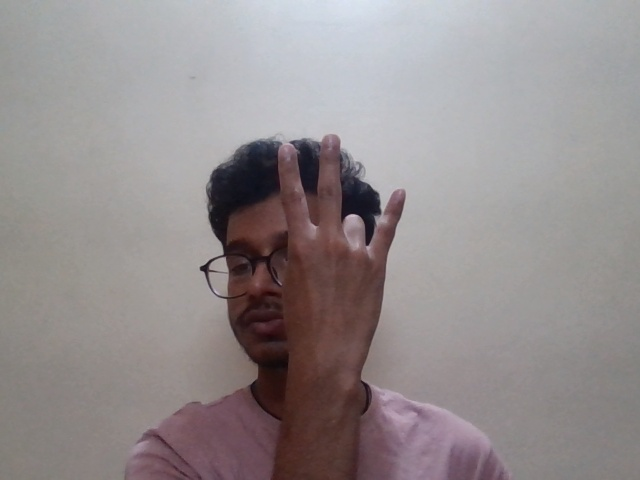why: (272, 134, 426, 335)
